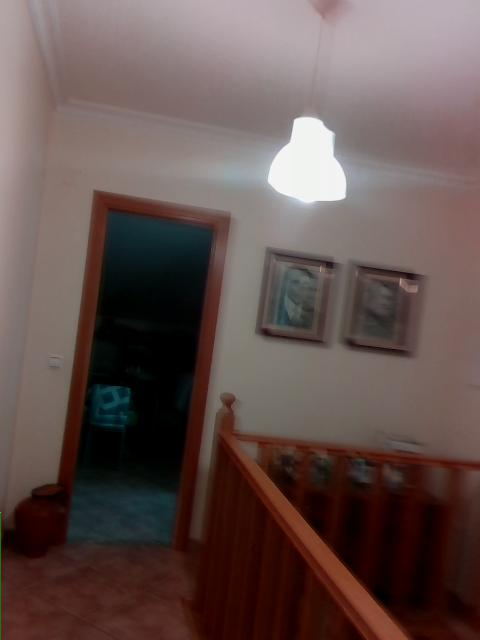open_door: (54, 187, 233, 552)
